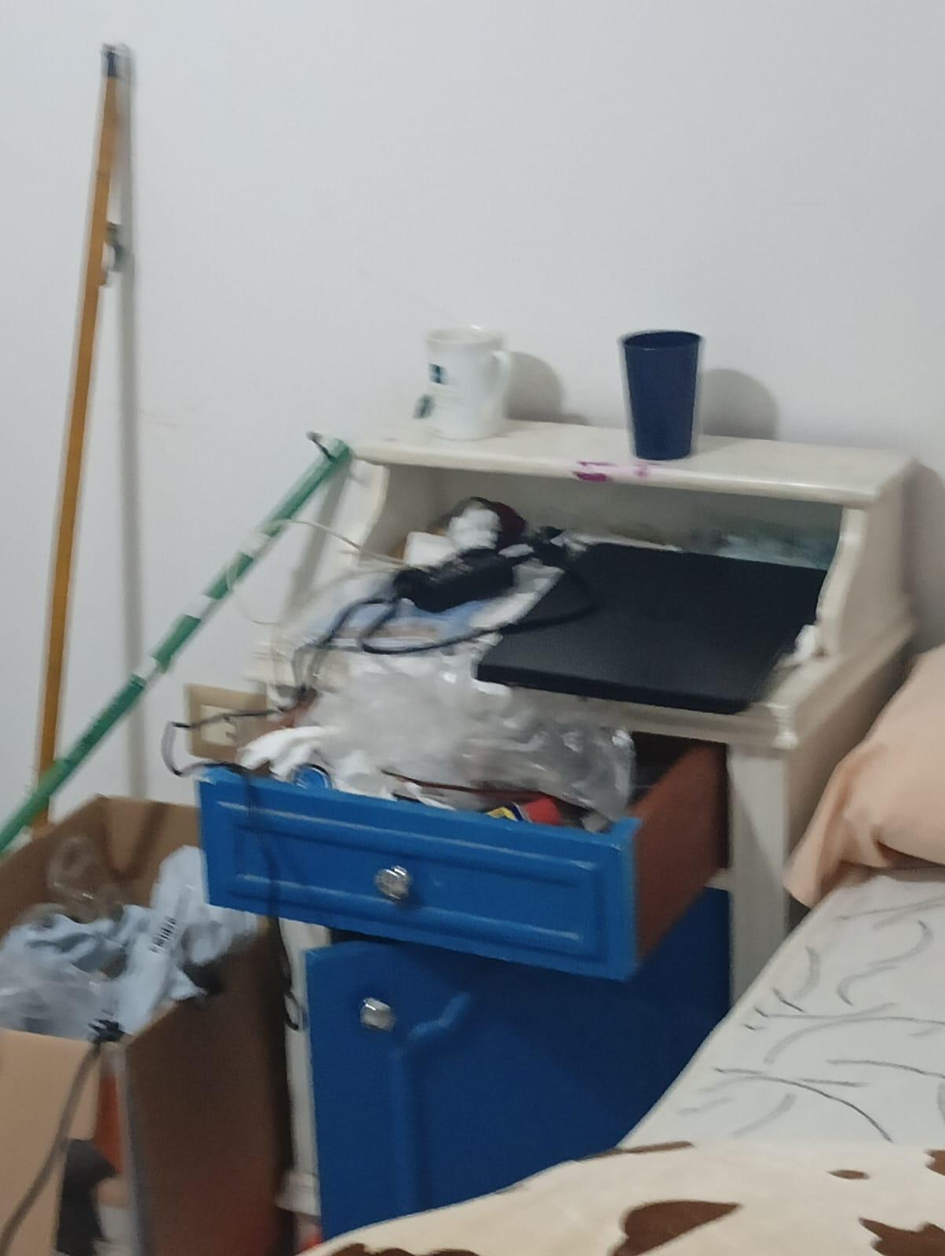cup: (622, 331, 700, 460), (423, 326, 511, 440)
